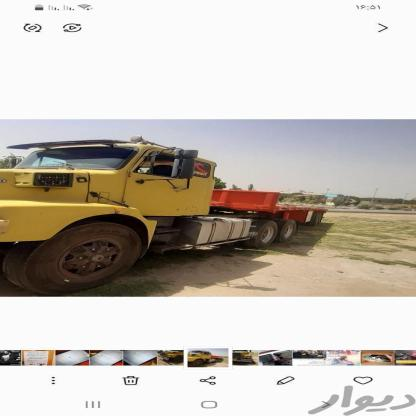Truck: (0, 137, 335, 297)
